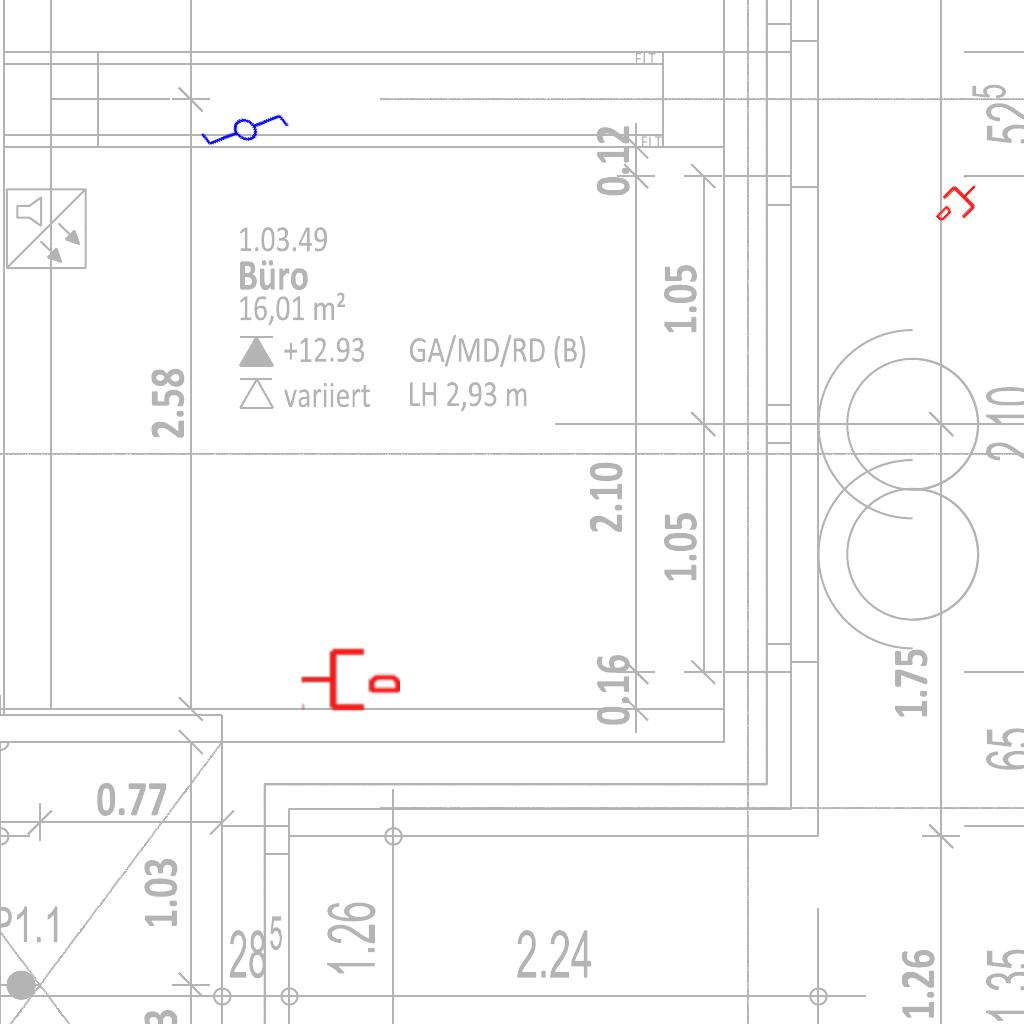Datenanschluss_einfach: (300, 645, 400, 714), (928, 173, 988, 233)
Wechselschalter: (195, 80, 301, 186)
